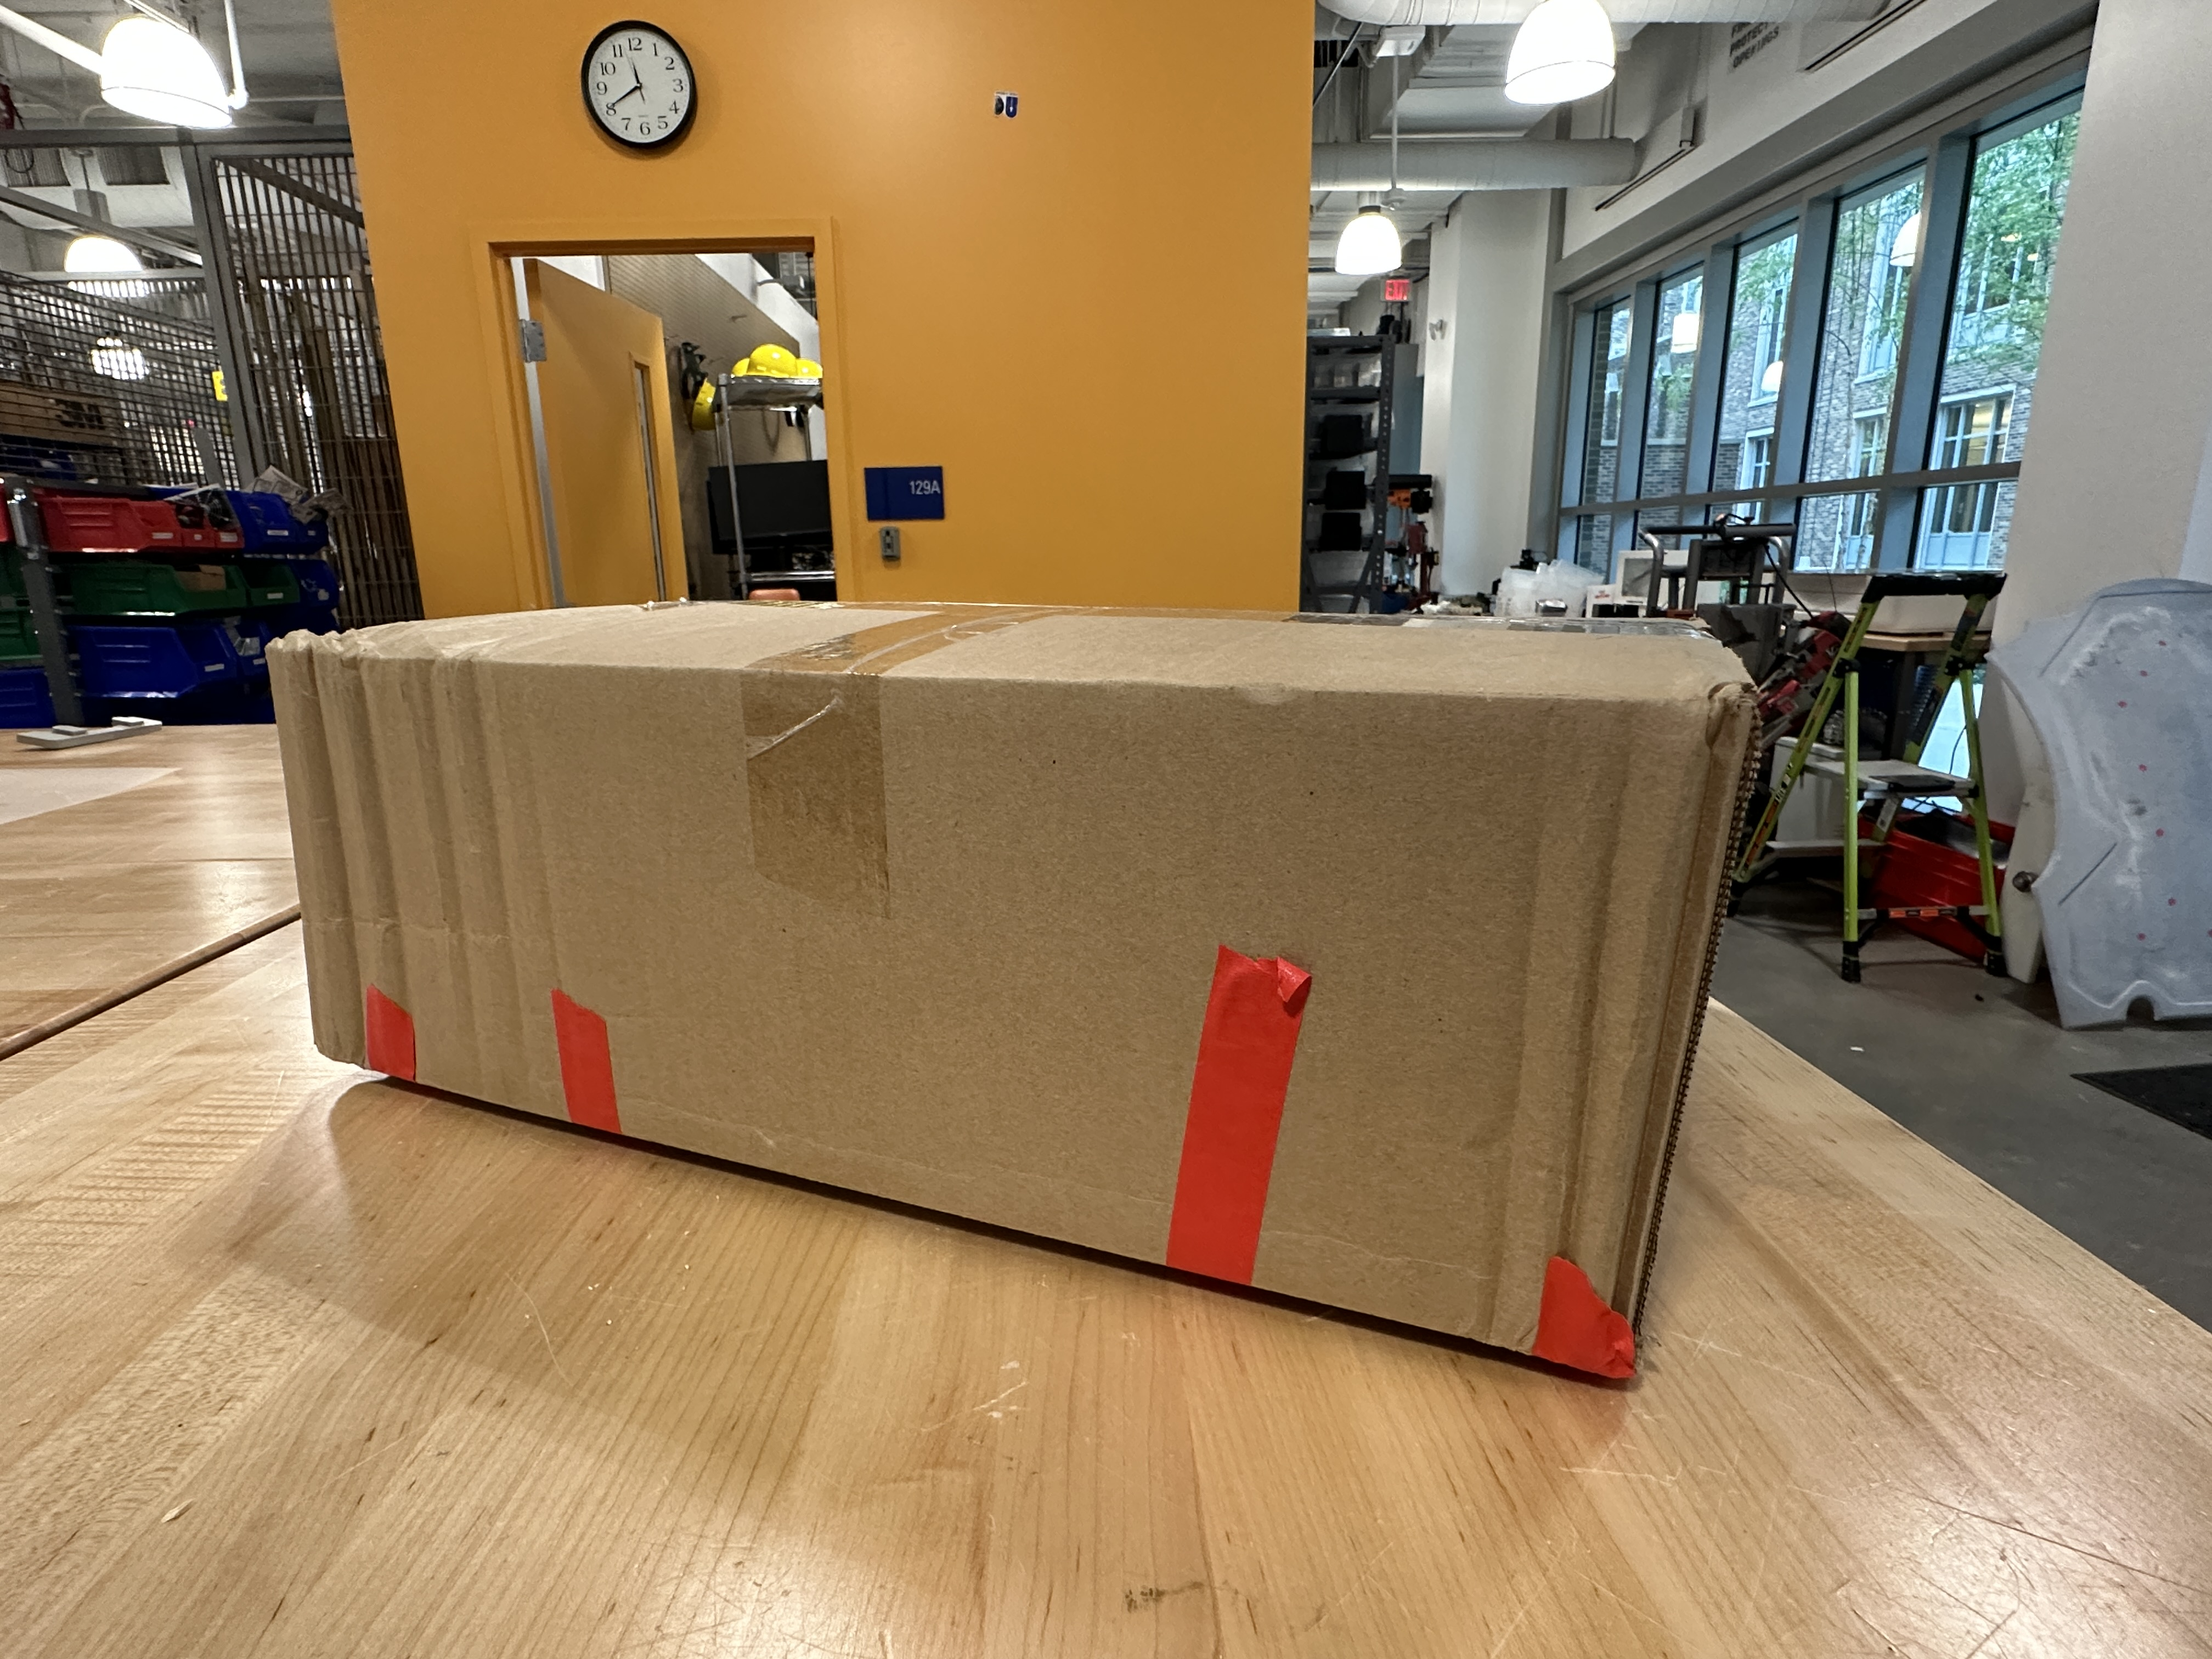Box_Obstacle: (235, 594, 1804, 1408)
